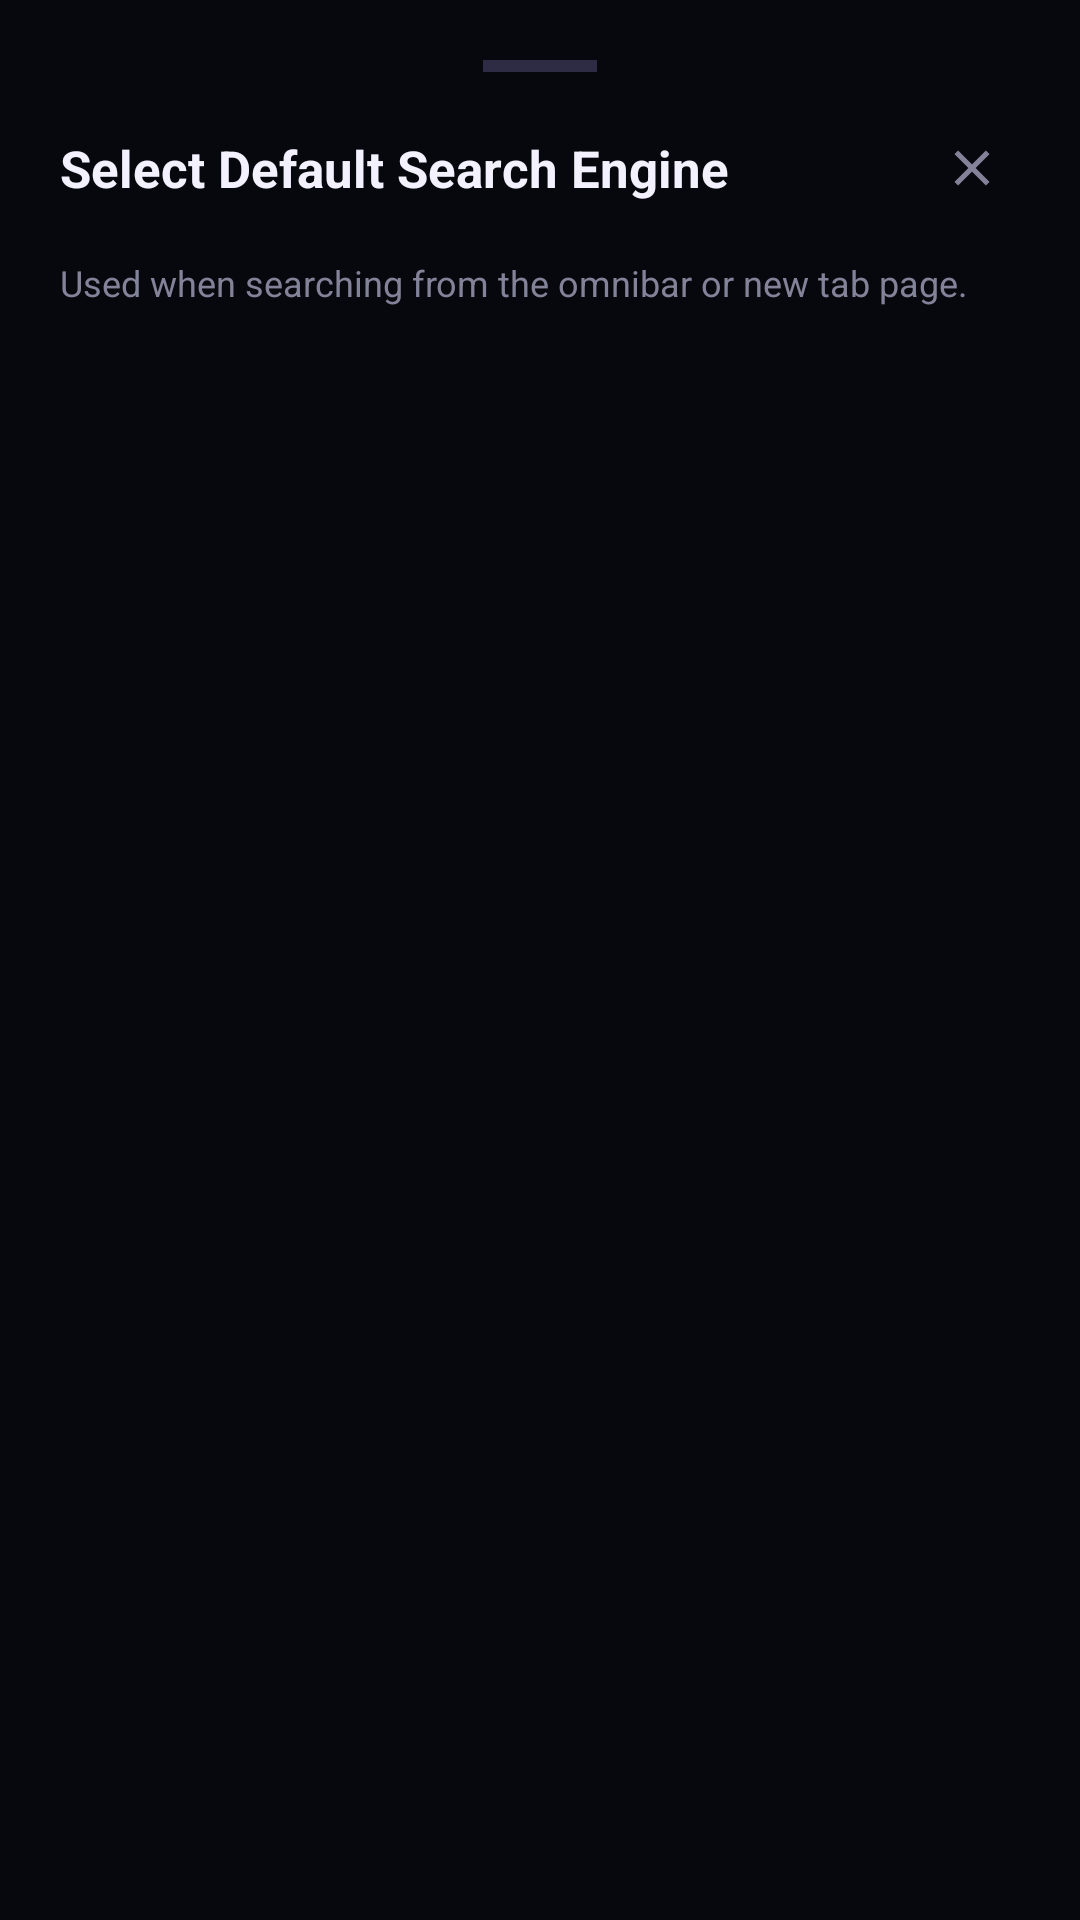

Named icons in this screenshot (1080w x 1920h) and their centers, (x=x, y=y):
Close: (x=972, y=168)
